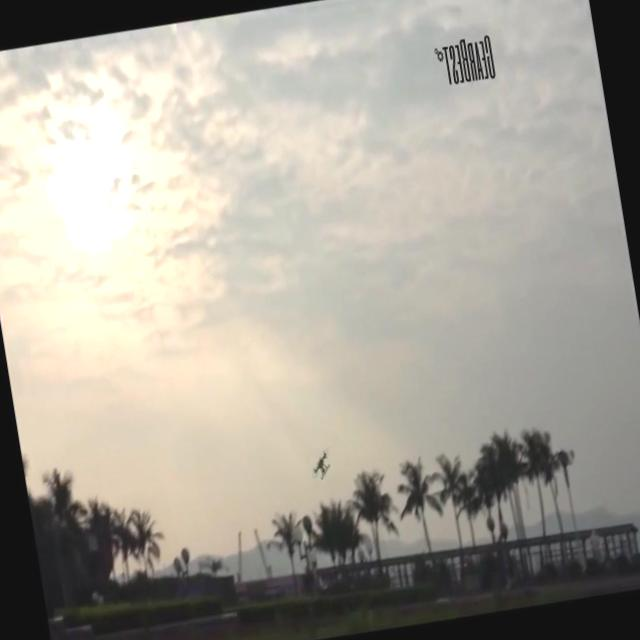drone: (310, 446, 334, 484)
